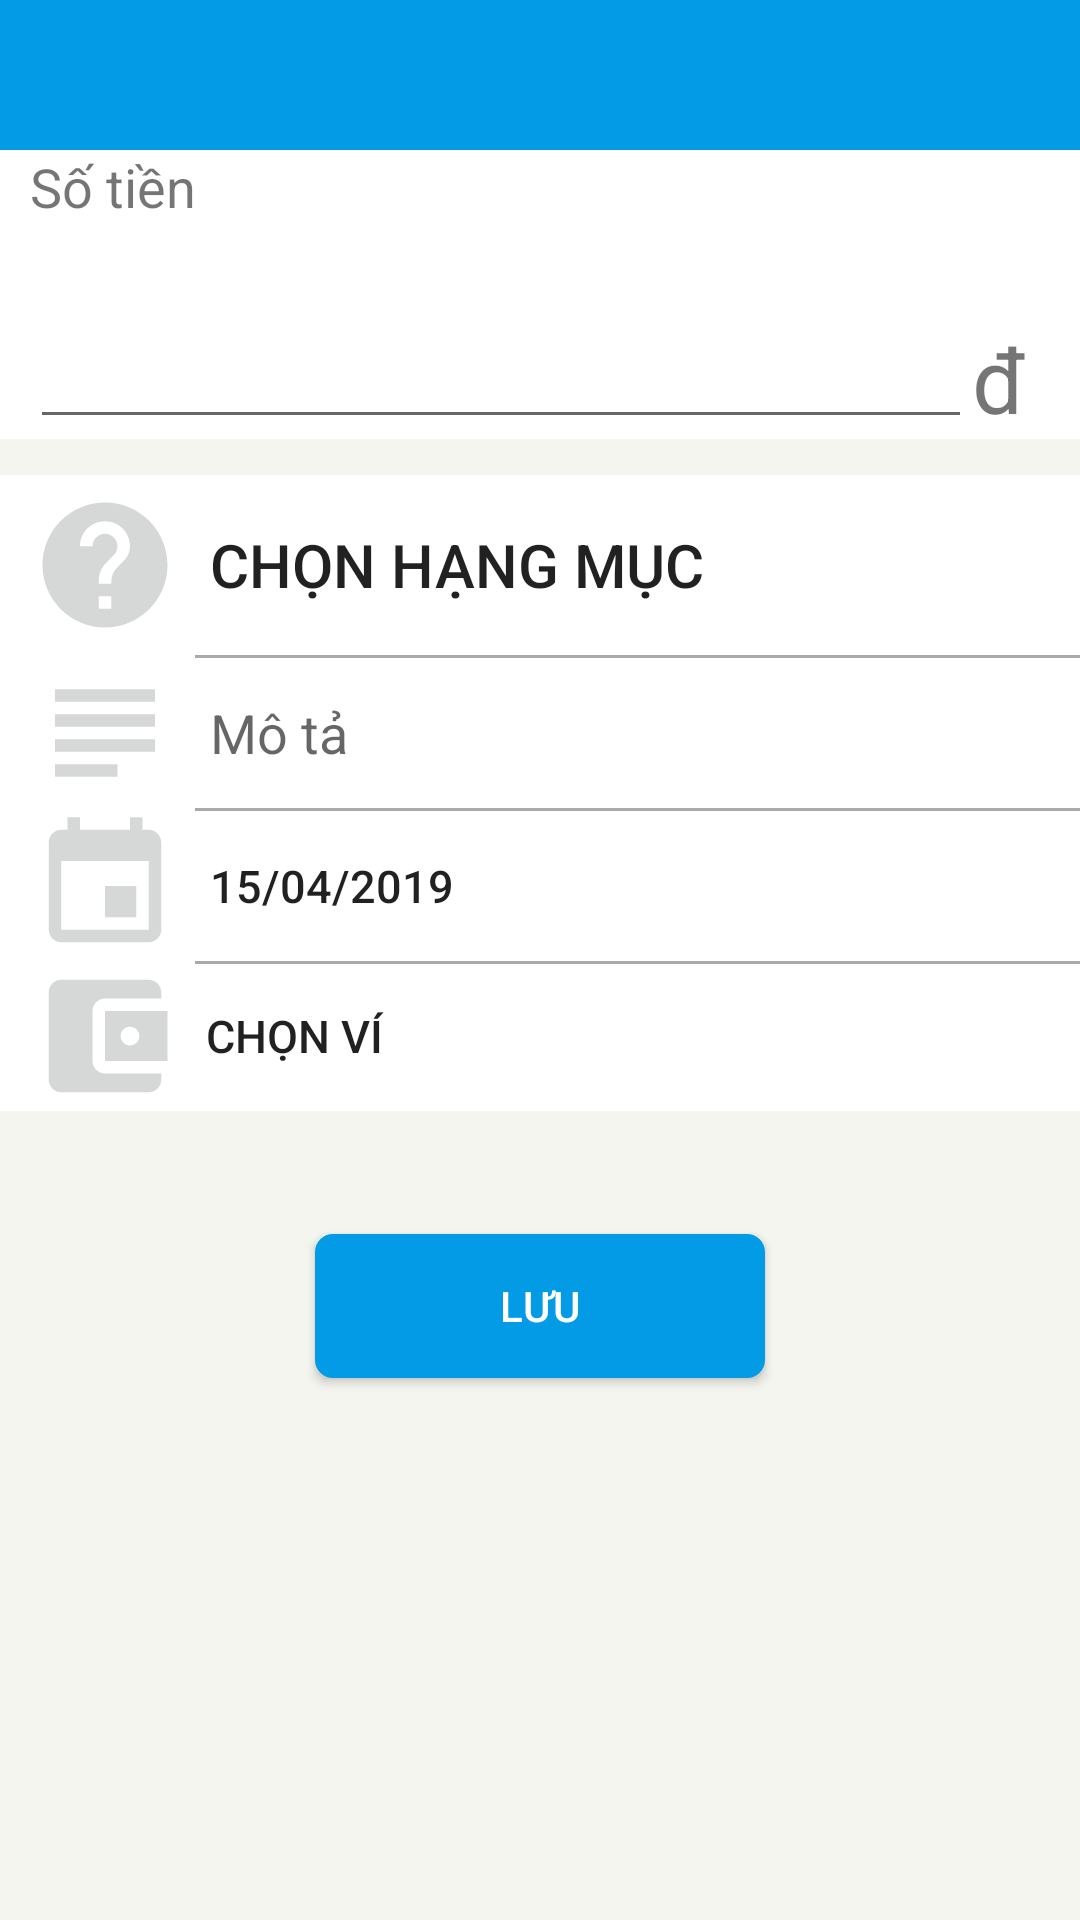

Named icons in this screenshot (1080 × 1920) and their centers, [x,y]:
lich: [105,879]
mota: [105,733]
